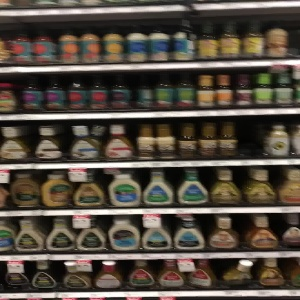void: (238, 117, 266, 157)
